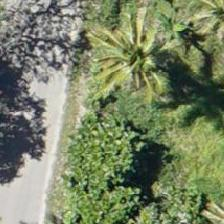coconut_tree: (91, 14, 181, 104), (177, 0, 223, 55)
